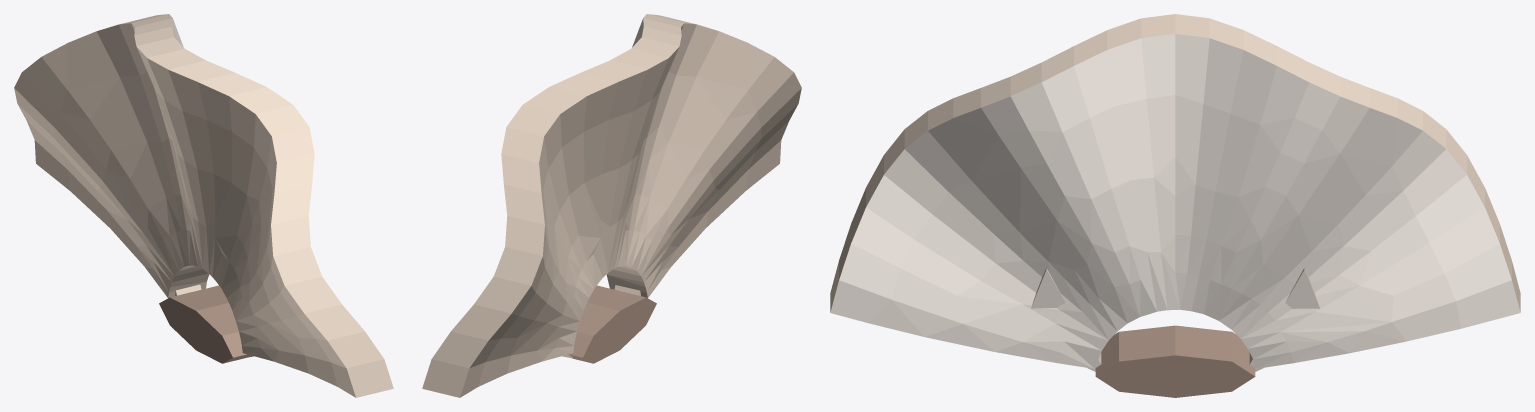
Rendered from 45-Arte3D_vieira_playa.glb.
3 renders of one model, left to right at view 1: azimuth 30°, elevation 25°; view 2: azimuth 150°, elevation 25°; view 3: azimuth 270°, elevation 25°, orthographic. The views are drawn at different scales.
Parts seen in each view (by area): view 1: SM_Vieira_M_Vieira_Exterior_Vieira_Interior_Vieira_Bisagra; view 2: SM_Vieira_M_Vieira_Exterior_Vieira_Interior_Vieira_Bisagra; view 3: SM_Vieira_M_Vieira_Exterior_Vieira_Interior_Vieira_Bisagra.
Part boxes in pixels (<box>): SM_Vieira_M_Vieira_Exterior_Vieira_Interior_Vieira_Bisagra: <box>14,14,393,397</box>; SM_Vieira_M_Vieira_Exterior_Vieira_Interior_Vieira_Bisagra: <box>422,14,801,397</box>; SM_Vieira_M_Vieira_Exterior_Vieira_Interior_Vieira_Bisagra: <box>830,14,1520,397</box>.
Bounding box in the file's own units: 0.056 × 0.154 × 0.2934.
